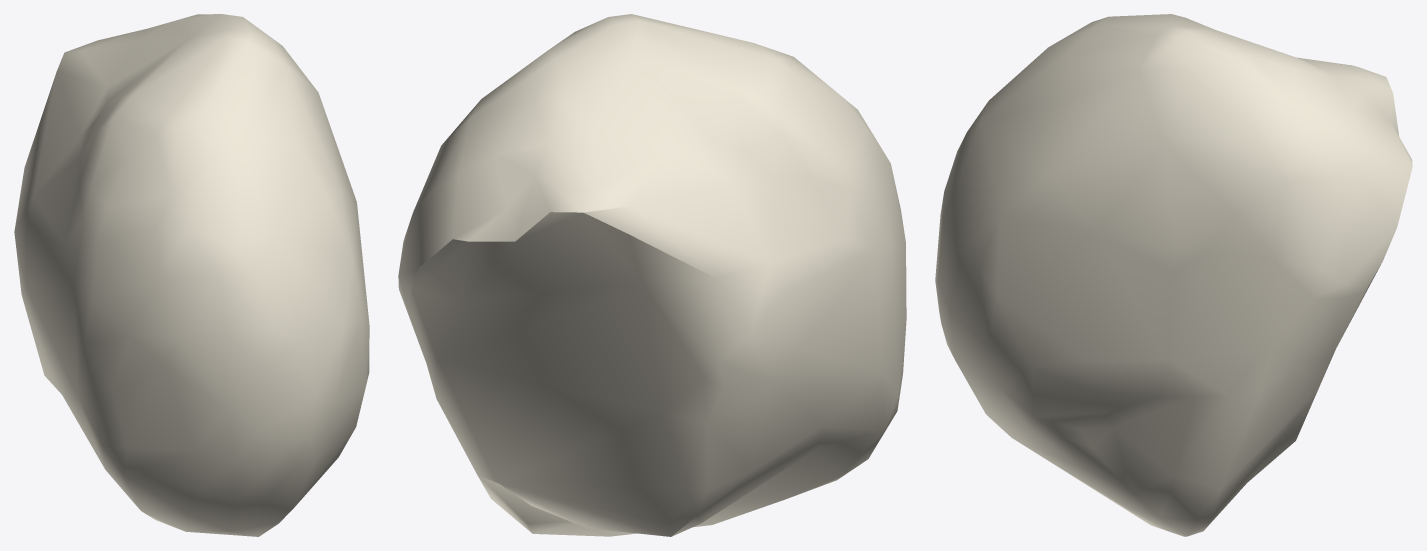
The model's file is fma24441.glb.
The picture shows the model from 3 angles, left to right: view 1: azimuth 30°, elevation 25°; view 2: azimuth 150°, elevation 25°; view 3: azimuth 270°, elevation 25°; orthographic projection. The views are drawn at different scales.
Parts seen in each view (by area): view 1: FMA24441; view 2: FMA24441; view 3: FMA24441.
Part boxes in pixels (left/top/right/bottom): FMA24441: left=14, top=14, right=369, bottom=536; FMA24441: left=398, top=14, right=906, bottom=536; FMA24441: left=935, top=14, right=1412, bottom=536.
Bounding box in the file's own units: 0.00856 × 0.0118 × 0.0108.
